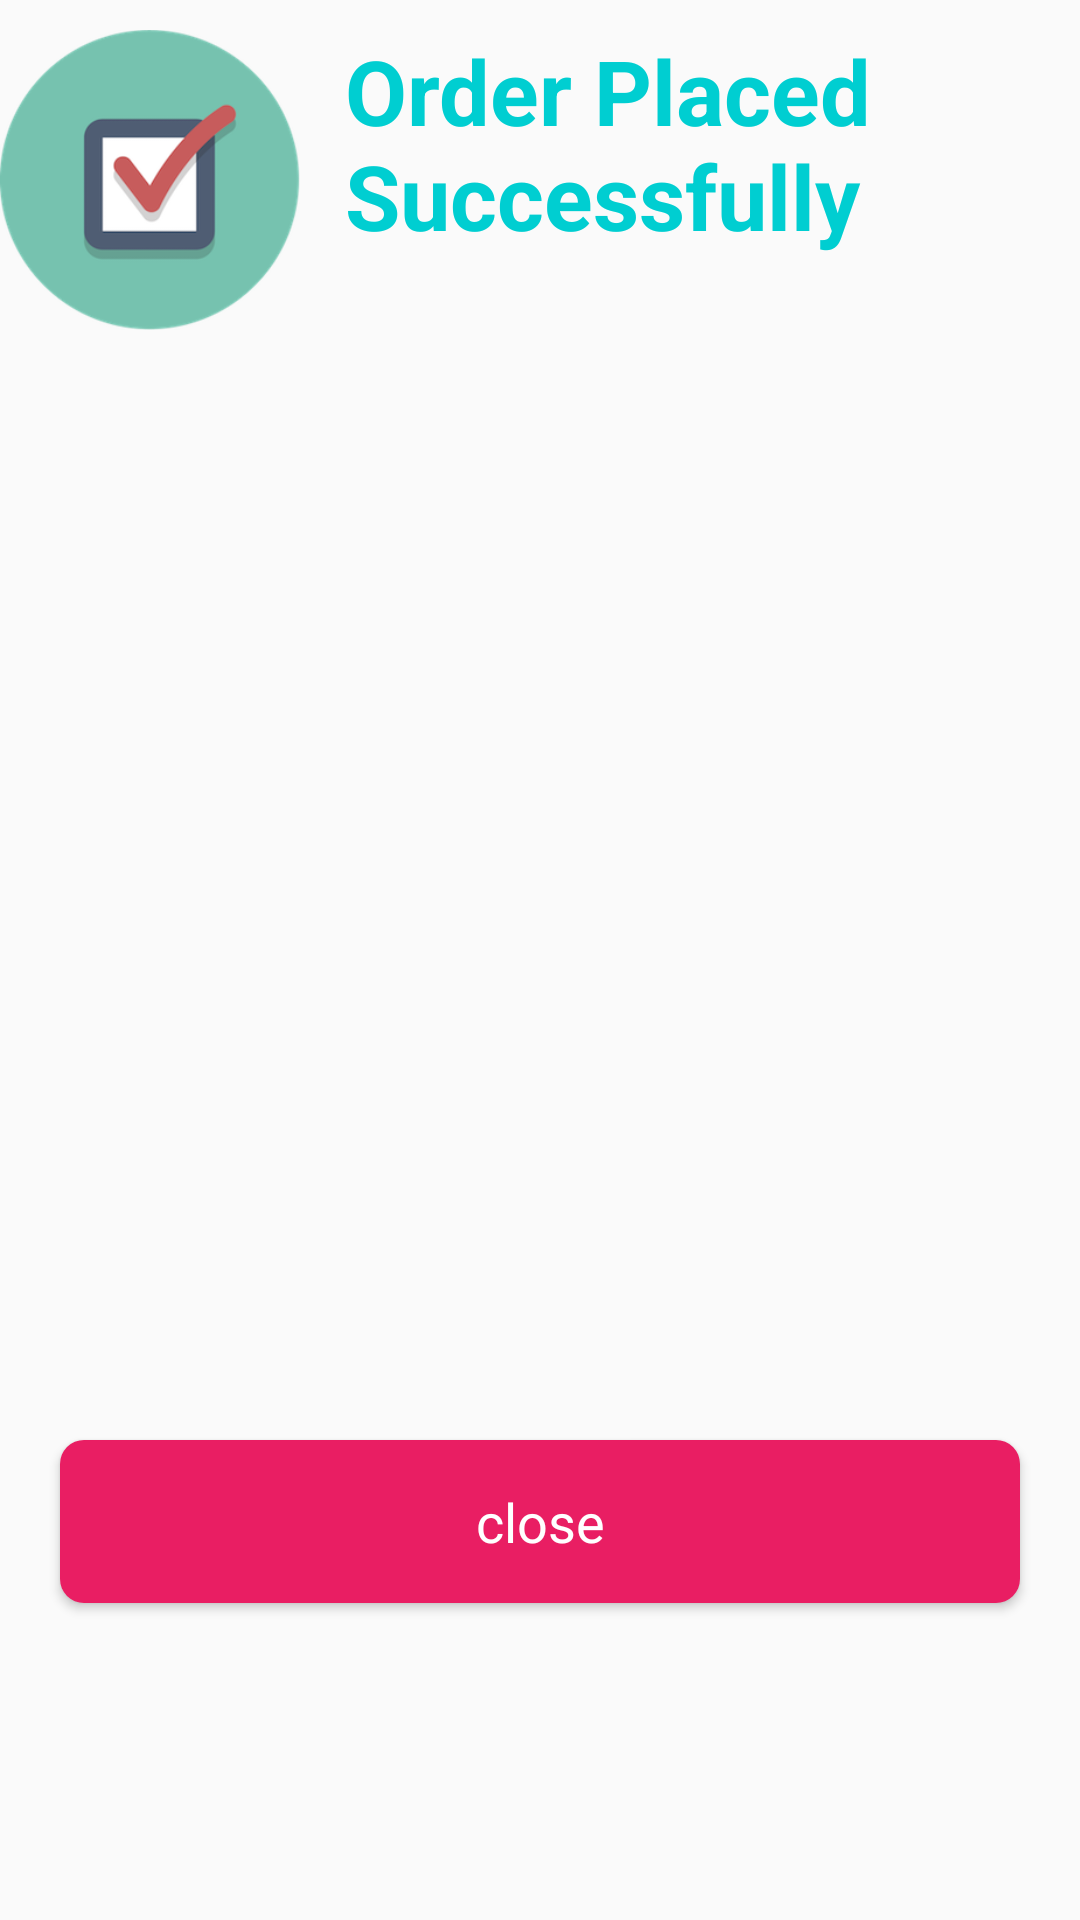

Icon click points for this 1080×1920 phone screenshot, format [x,y]:
order confirmed: [149,180]
